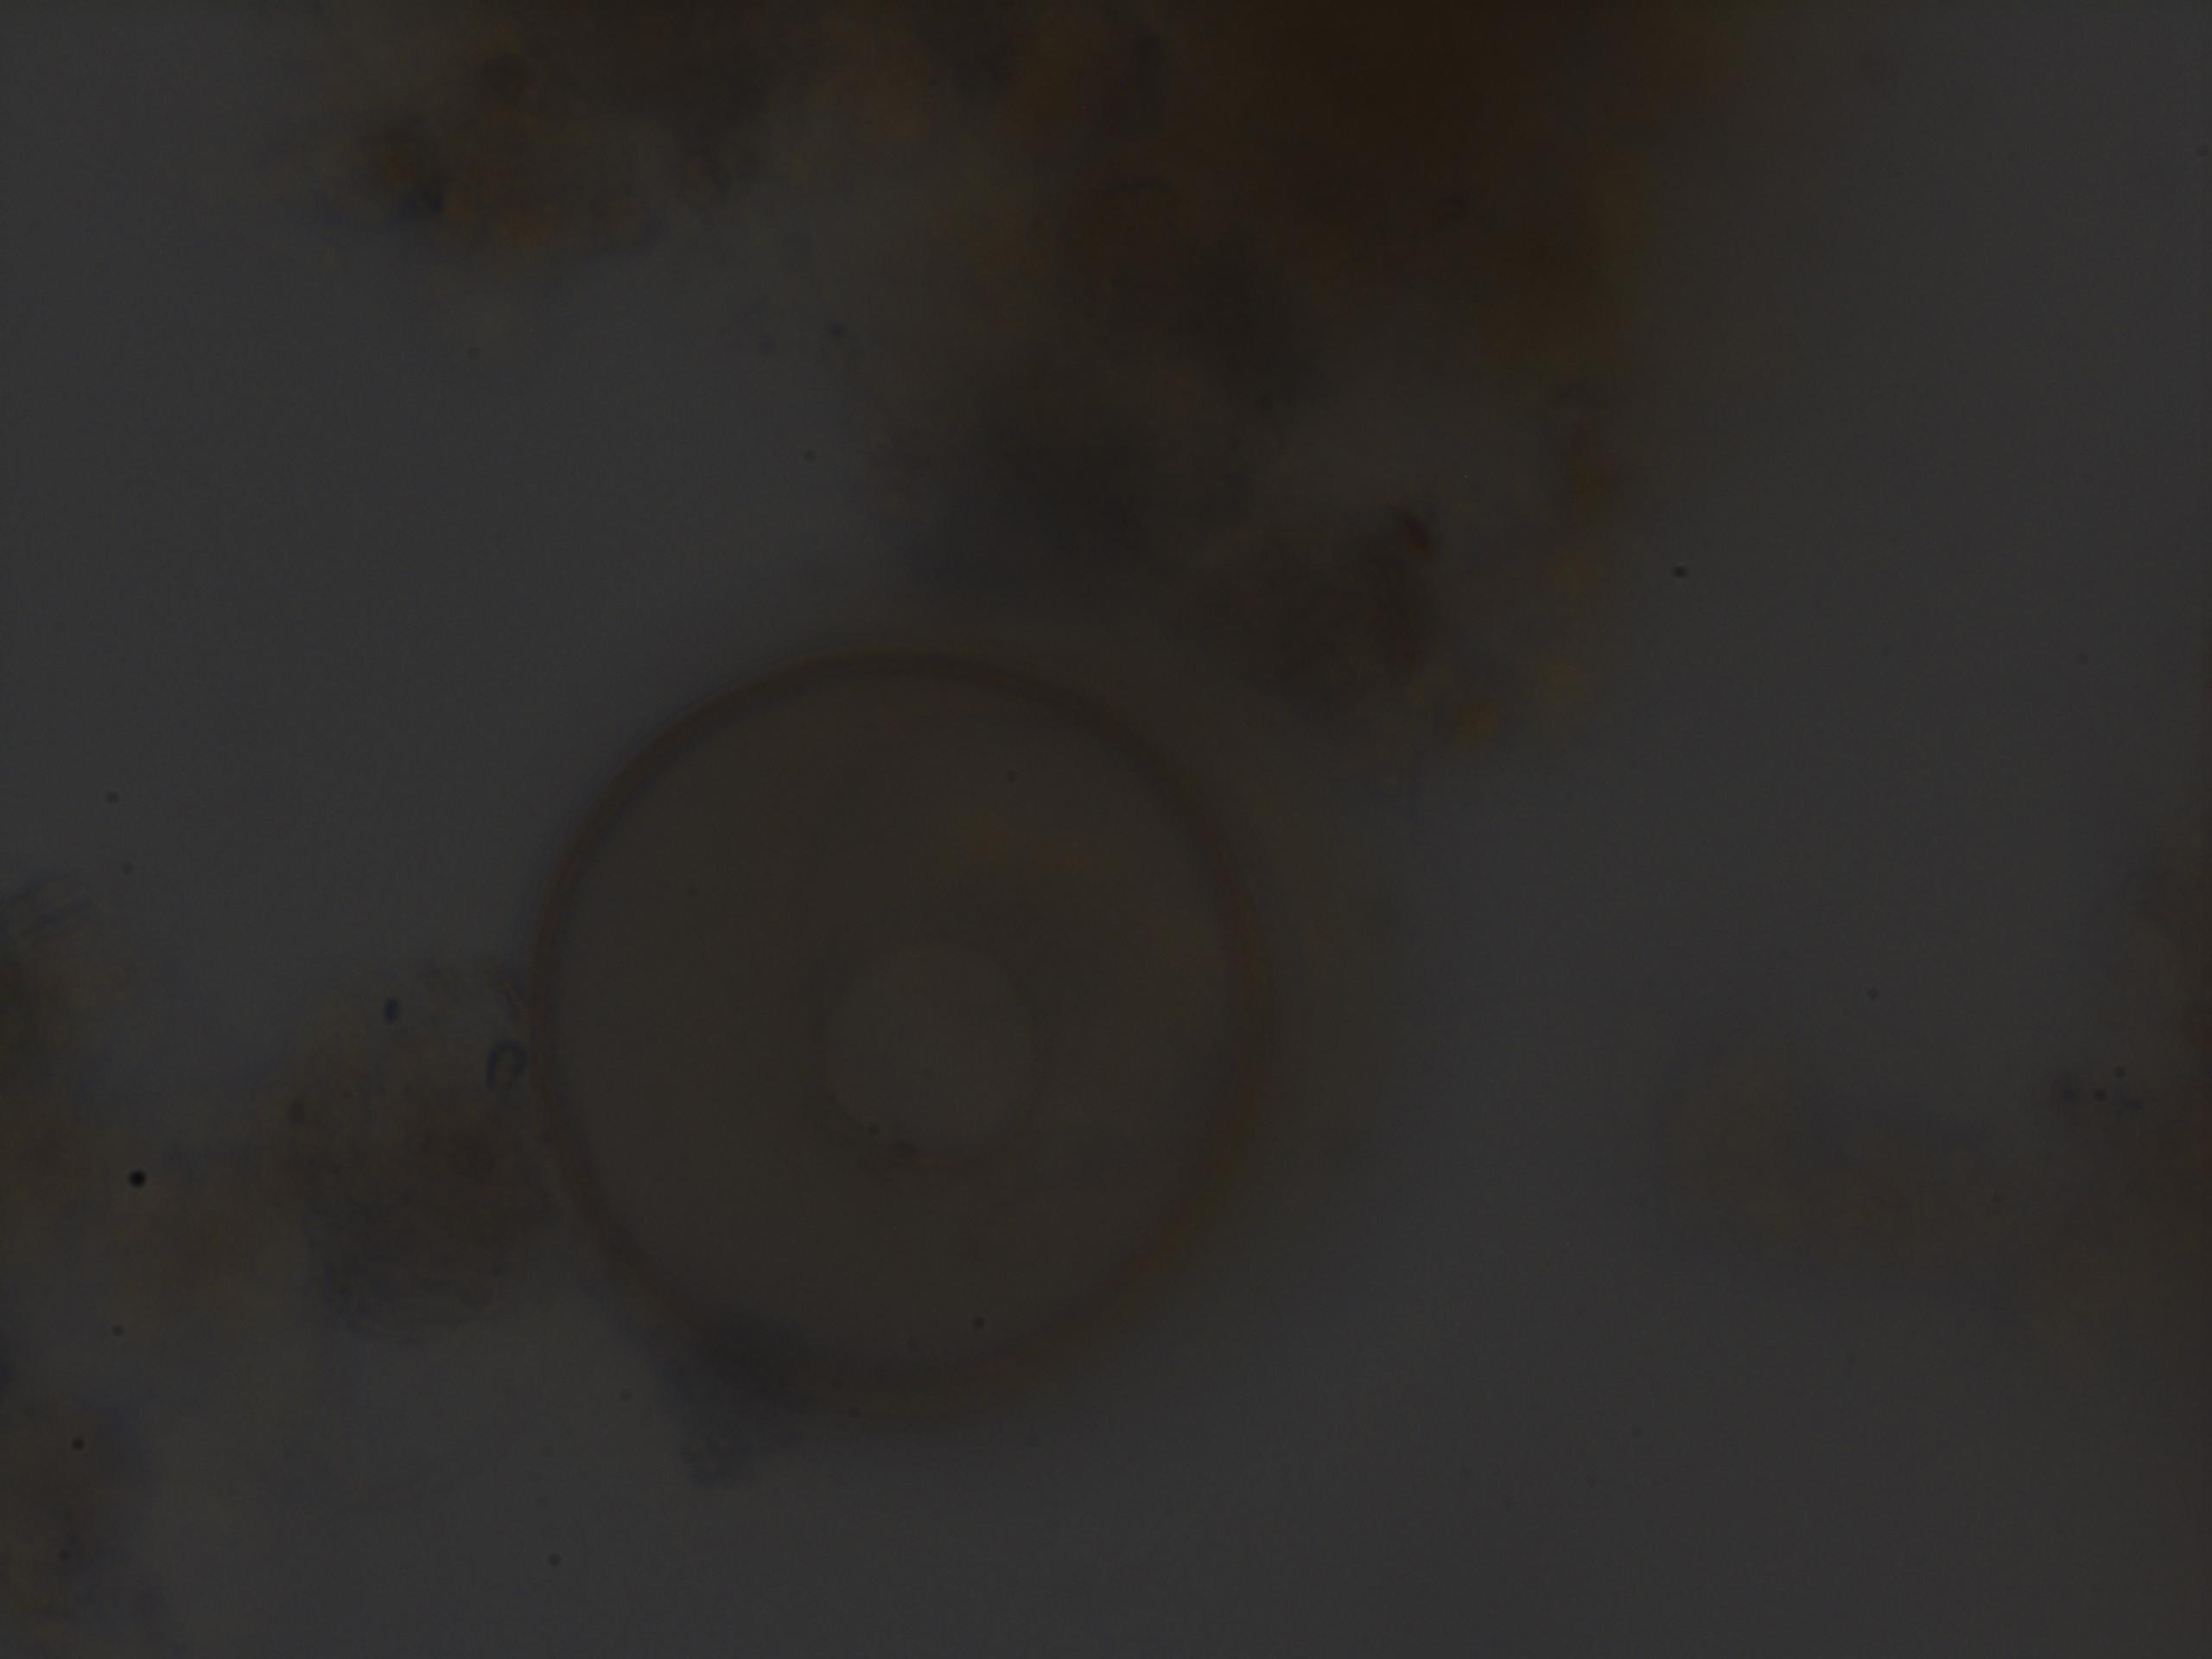protozoa: (509, 643, 1287, 1427)
